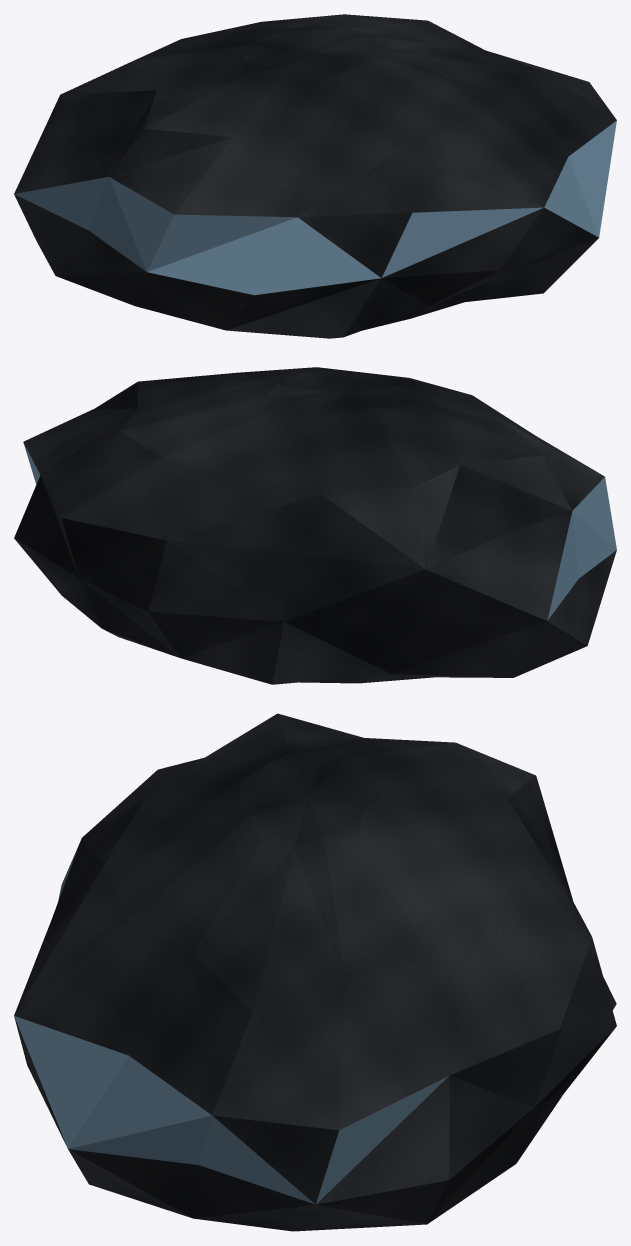
Rendered from Superdense_Loose_A.glb.
The picture shows the model from 3 angles, top to bottom: view 1: azimuth 30°, elevation 25°; view 2: azimuth 150°, elevation 25°; view 3: azimuth 270°, elevation 25°; orthographic projection. The views are drawn at different scales.
Parts seen in each view (by area): view 1: Superdense_Loose_A_LOD0; view 2: Superdense_Loose_A_LOD0; view 3: Superdense_Loose_A_LOD0.
Part boxes in pixels (bbox=[...]): Superdense_Loose_A_LOD0: bbox=[14, 14, 616, 338]; Superdense_Loose_A_LOD0: bbox=[14, 367, 616, 684]; Superdense_Loose_A_LOD0: bbox=[14, 713, 616, 1231].
Size of what is drawn, in the model's own units: 2.6 by 1.13 by 1.9.
2 materials, 1 textured.
